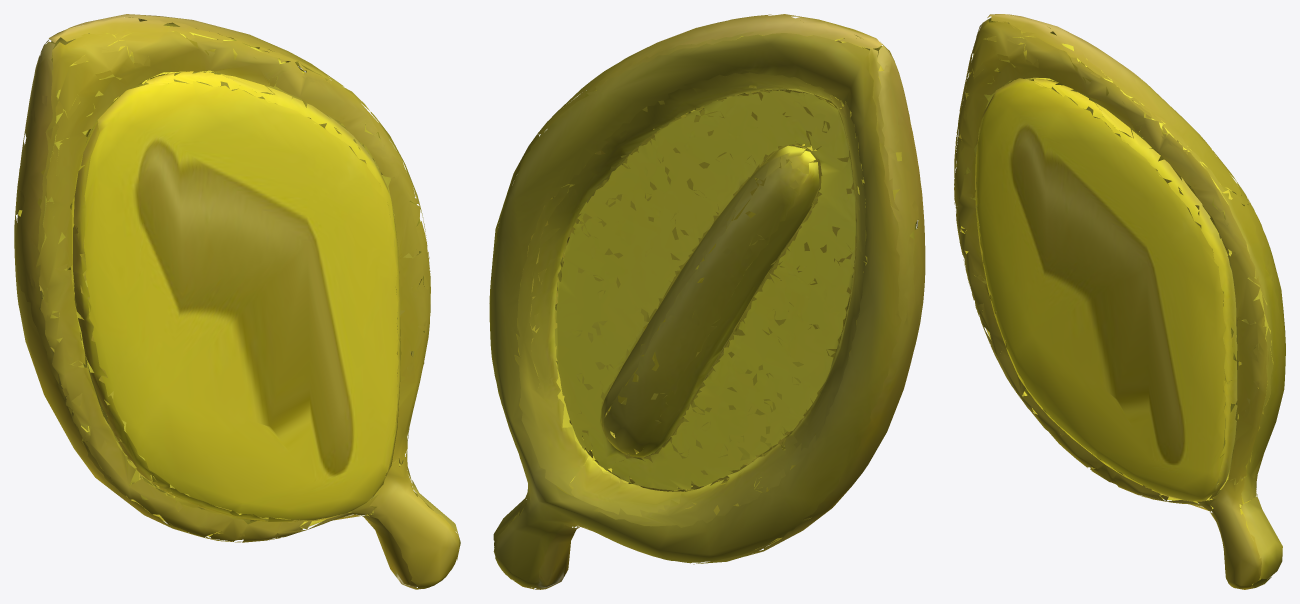
File: goldenleaf.glb
The picture shows the model from 3 angles, left to right: view 1: azimuth 30°, elevation 25°; view 2: azimuth 150°, elevation 25°; view 3: azimuth 330°, elevation 25°; orthographic projection. The views are drawn at different scales.
Size of the model in its own units: 0.0803 by 0.1141 by 0.0169.
Materials: 1 (1 with a texture image).
